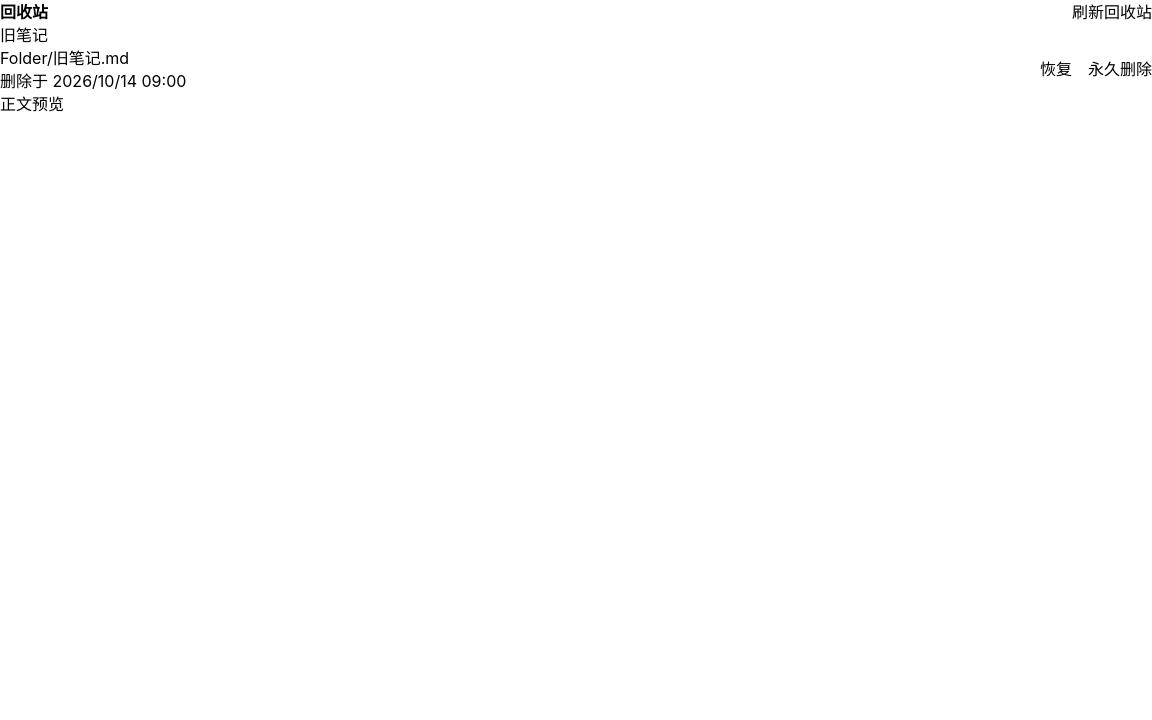
Test: prevents duplicate permanent deletion and cancellation while pending
Click the button with aria-label "永久删除笔记：旧笔记" at (1112, 70), box [1072, 58, 1151, 81]
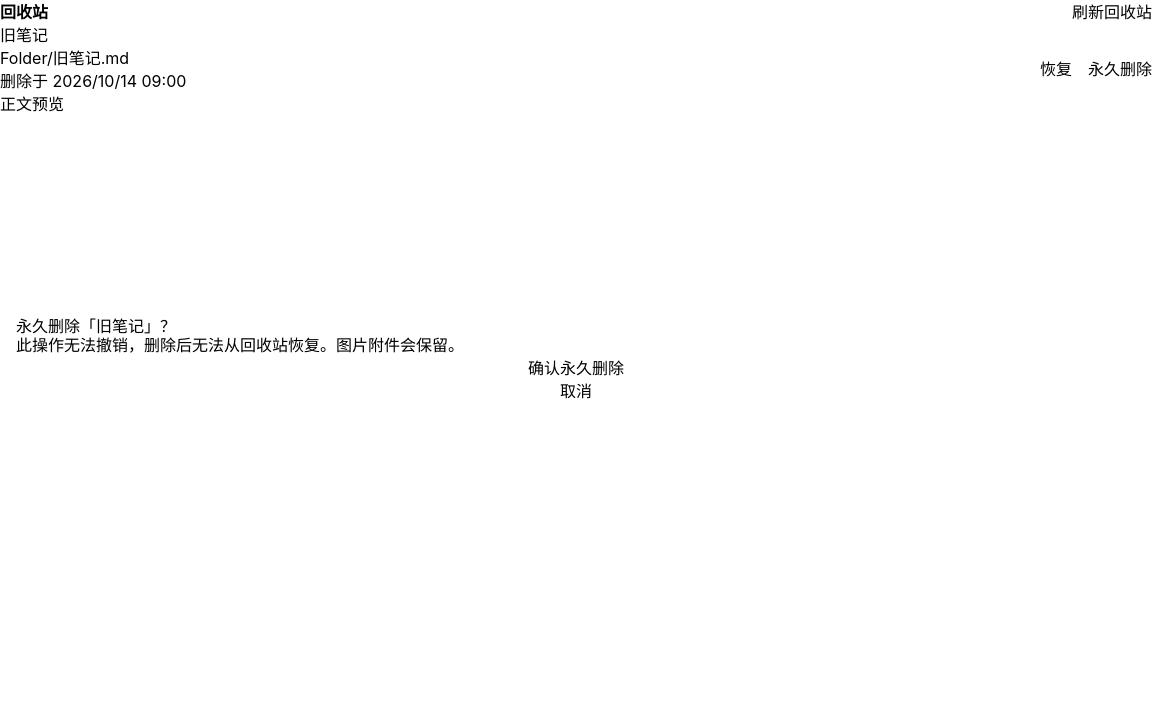
Double-click the button "确认永久删除" at (576, 368), box [16, 357, 1136, 379]
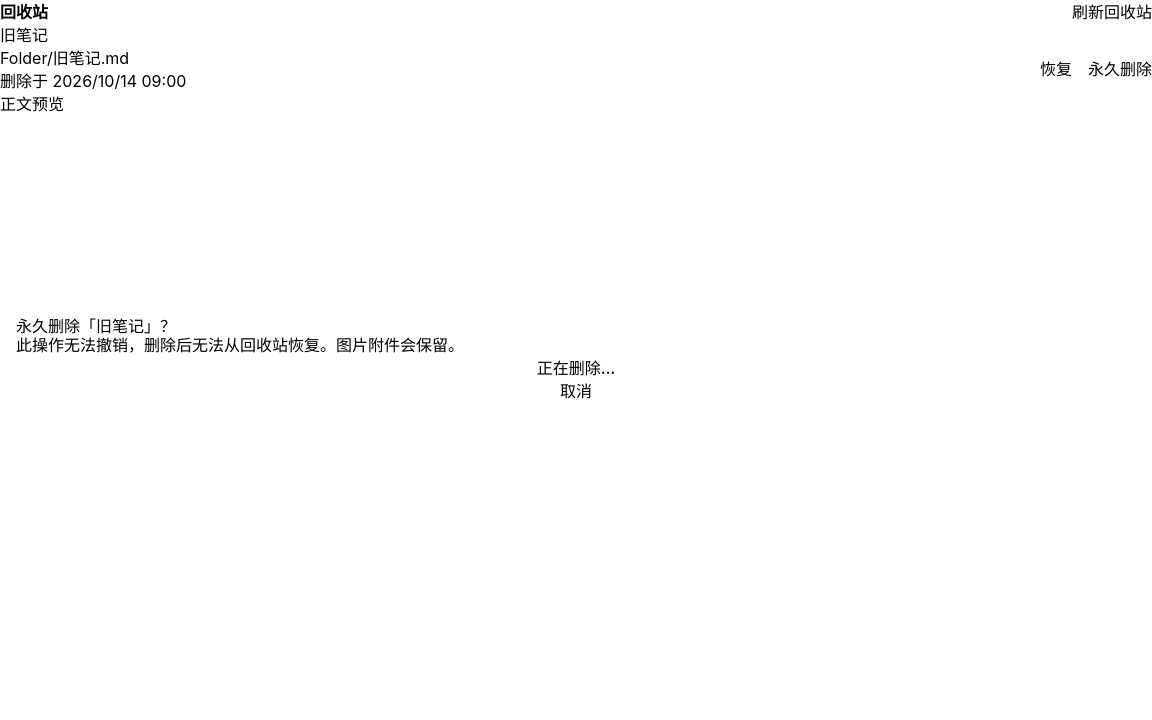
Expected: the button "取消" is disabled, [16, 379, 1136, 402]
Press Escape
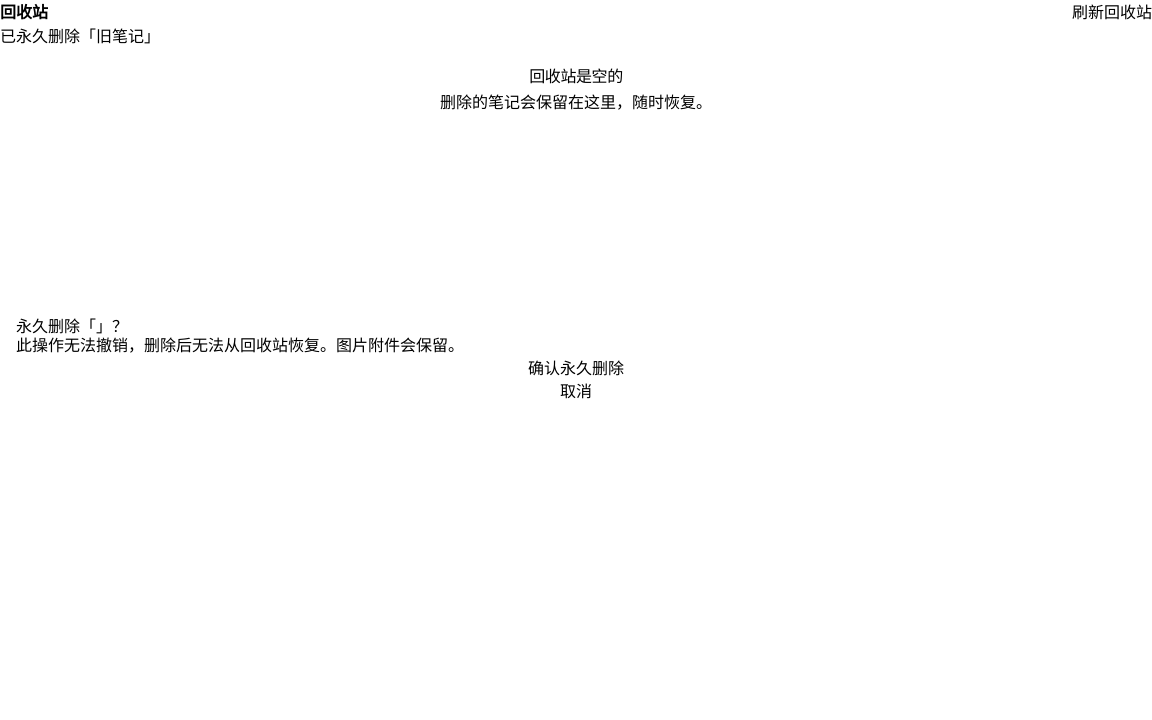
Expected: the dialog is shown, [16, 318, 1136, 402]
Expected: the heading "回收站是空的" is shown, [529, 64, 623, 89]
